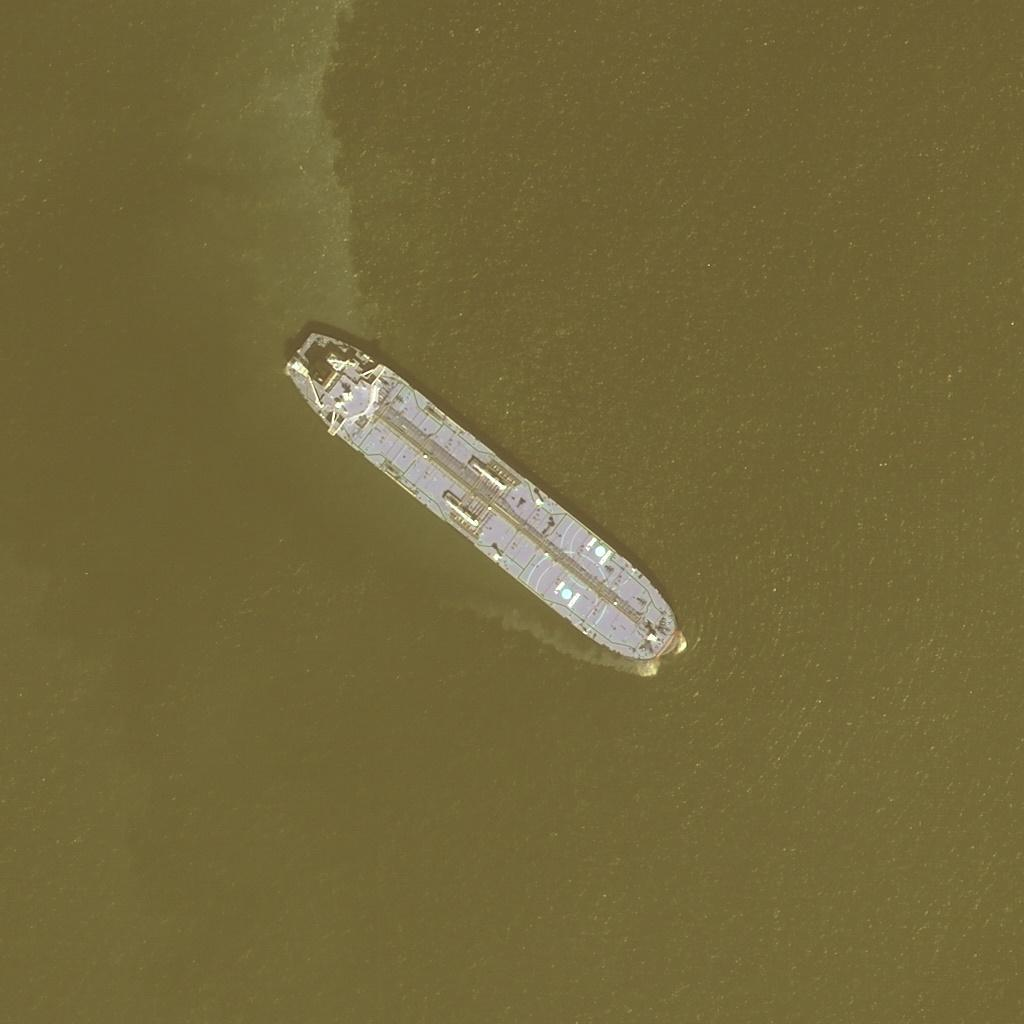ship: (281, 345, 682, 658)
